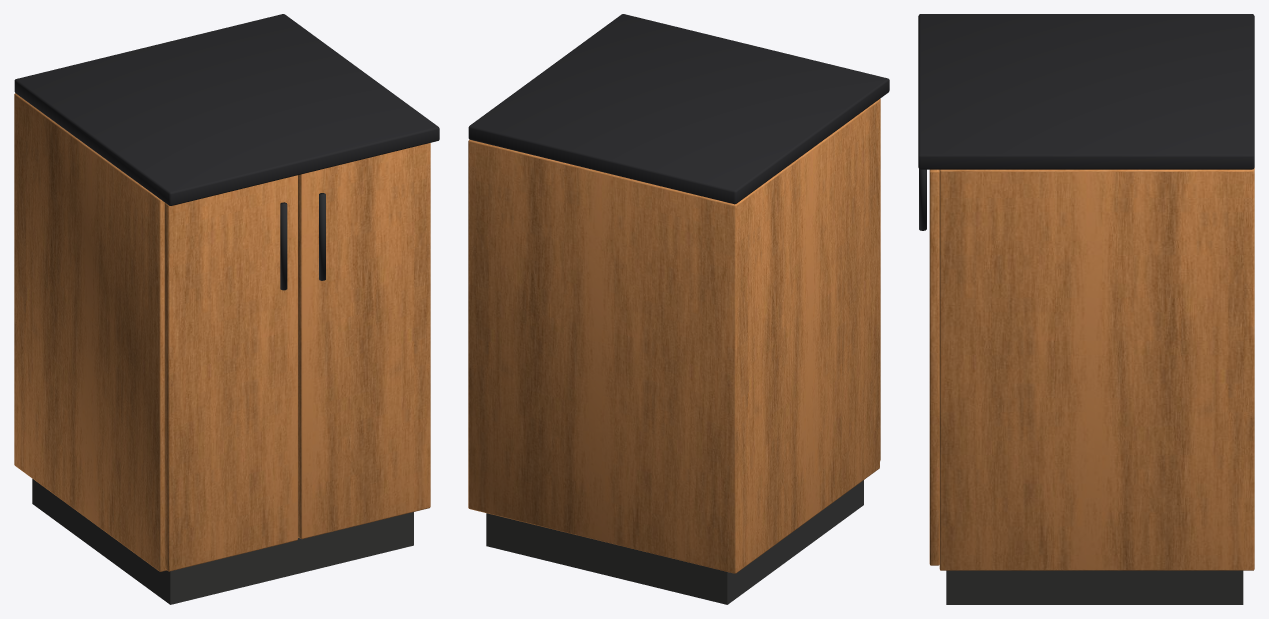
Rendered from kitchen.base-cabinet.glb.
3 views of the same model, side by side, from view 1: azimuth 30°, elevation 25°; view 2: azimuth 150°, elevation 25°; view 3: azimuth 270°, elevation 25° (orthographic). The views are drawn at different scales.
Visible parts, largest first — view 1: kitchen.base-cabinet.001; view 2: kitchen.base-cabinet.001; view 3: kitchen.base-cabinet.001.
Boxes of the visible parts, box(x1,y1,x2,y2) form: kitchen.base-cabinet.001: box(14, 14, 439, 604); kitchen.base-cabinet.001: box(468, 14, 889, 604); kitchen.base-cabinet.001: box(918, 14, 1254, 604).
Bounding box in the file's own units: 0.6 × 0.9 × 0.6.
4 materials, 1 textured.
